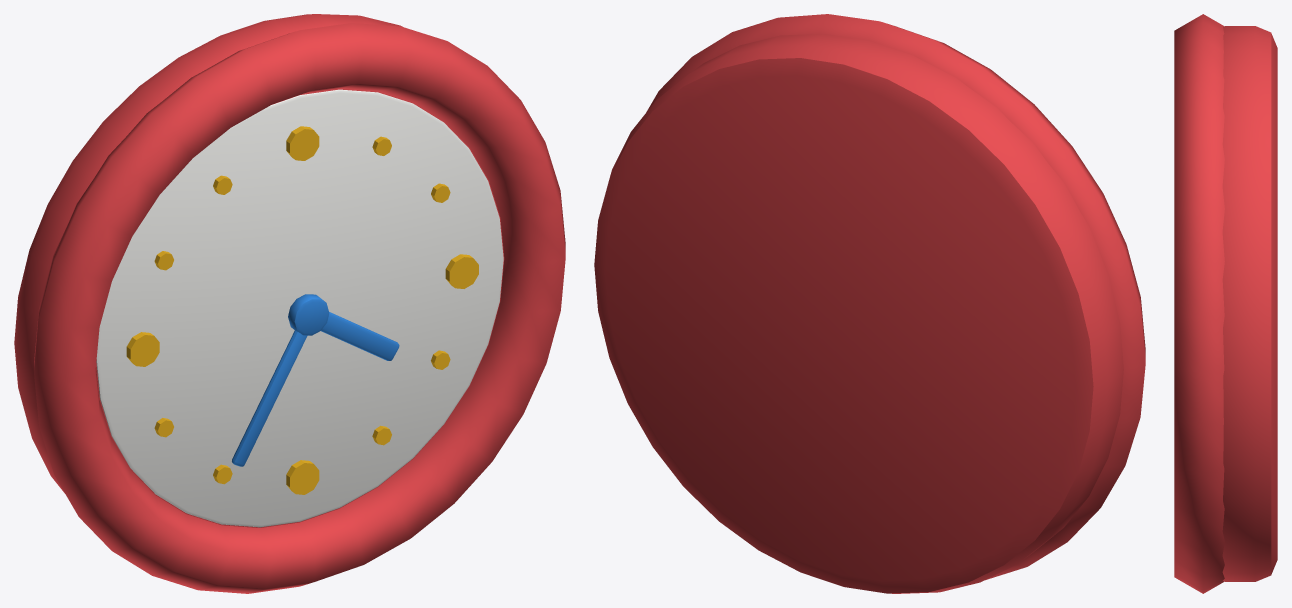
Rendered from relogio_parede_redondo_vermelho.glb.
The picture shows the model from 3 angles, left to right: view 1: azimuth 30°, elevation 25°; view 2: azimuth 150°, elevation 25°; view 3: azimuth 270°, elevation 25°; orthographic projection. The views are drawn at different scales.
Visible parts, largest first — view 1: relogio_parede_redondo_vermelho; view 2: relogio_parede_redondo_vermelho; view 3: relogio_parede_redondo_vermelho.
Part boxes in pixels (x1,y1,x2,y2): relogio_parede_redondo_vermelho: (14,14,565,593); relogio_parede_redondo_vermelho: (594,14,1145,593); relogio_parede_redondo_vermelho: (1174,14,1277,593).
Size of the model in its own units: 0.312 by 0.312 by 0.0556.
Materials: 1 (1 with a texture image).
